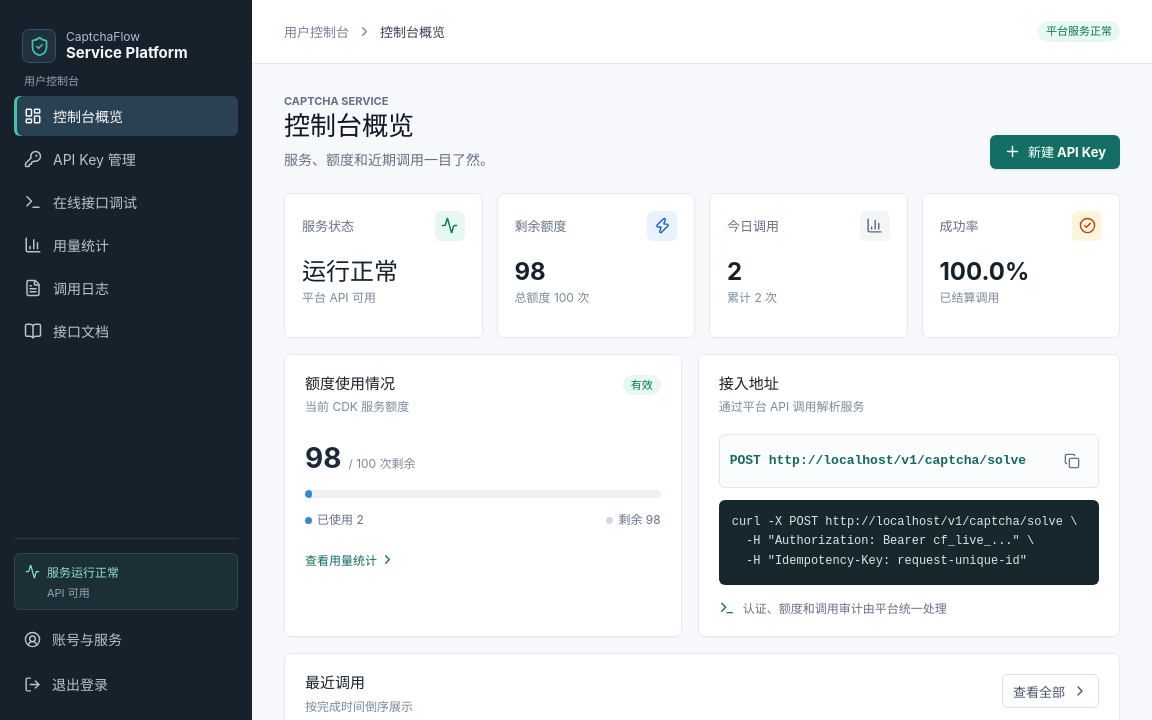
Test: App › serves console deep links directly when a session cookie is valid
Expected: the heading "控制台概览" is shown, [284,110,414,141]
Expected: the text "剩余额度" is shown, [514,216,566,235]
// Sidebar navigation updates the URL without a full reload.
Click the button "用量统计": (126, 245) [14,225,238,265]
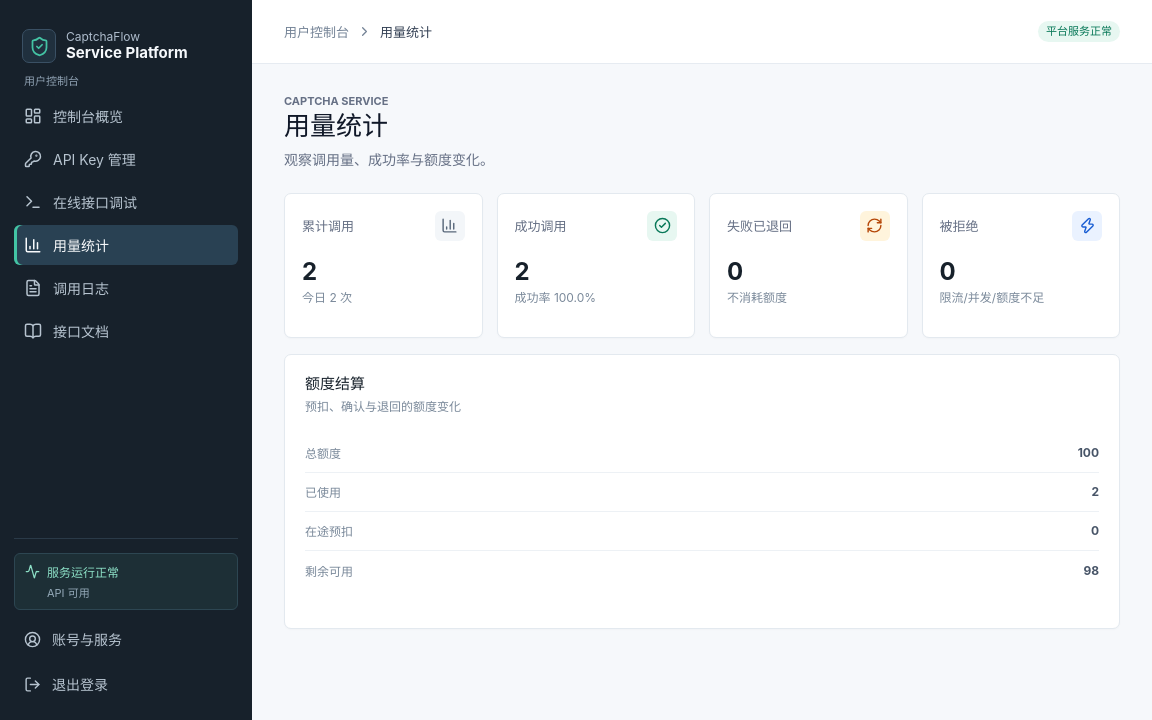
Expected: the heading "用量统计" is shown, [284,110,388,141]
